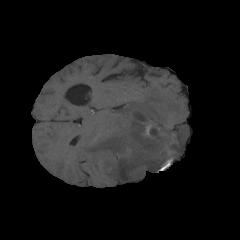glioma: (82, 87, 190, 182)
